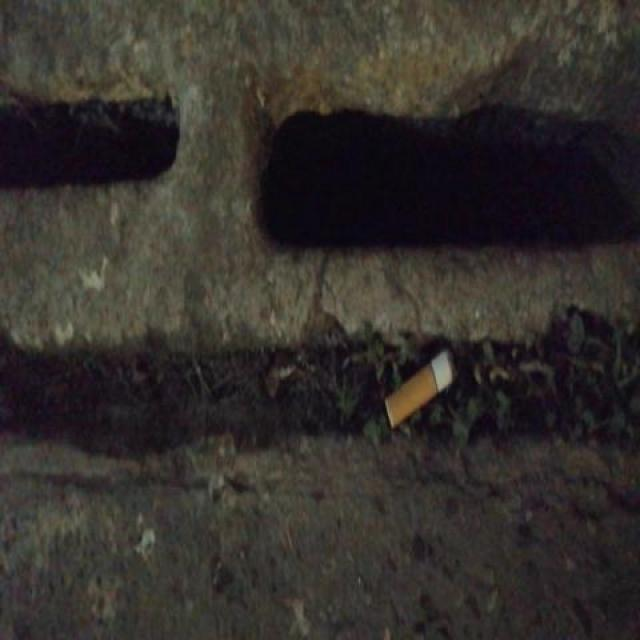non-organic waste: (379, 340, 462, 432)
